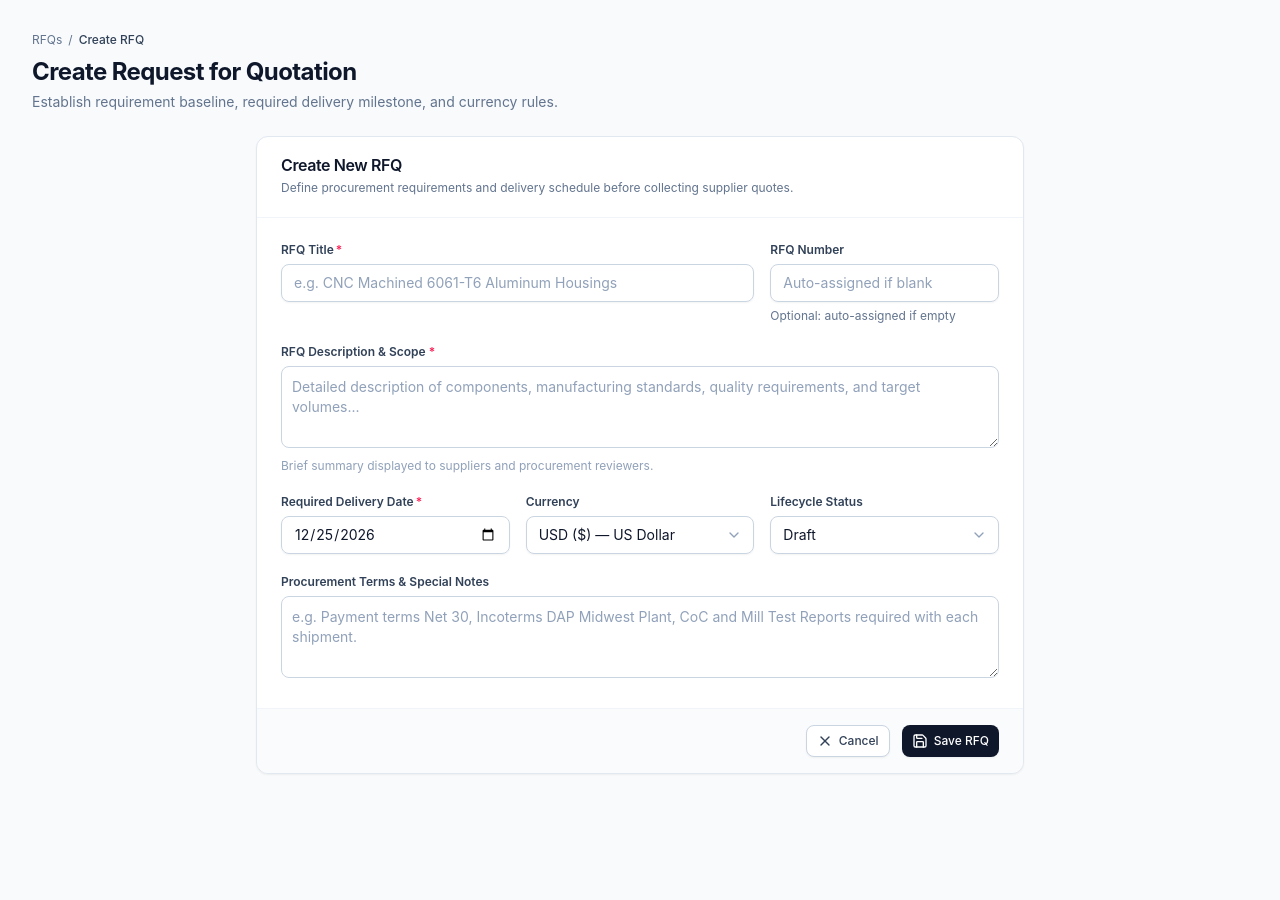
it: CreateRfqPage Integration › displays server error banner when API creation mutation rejects
The width and height of the screenshot is (1280, 900).
Type "Duplicate Cylinders" into the field labelled "RFQ Title*" at (518, 283), box [281,264,754,302]
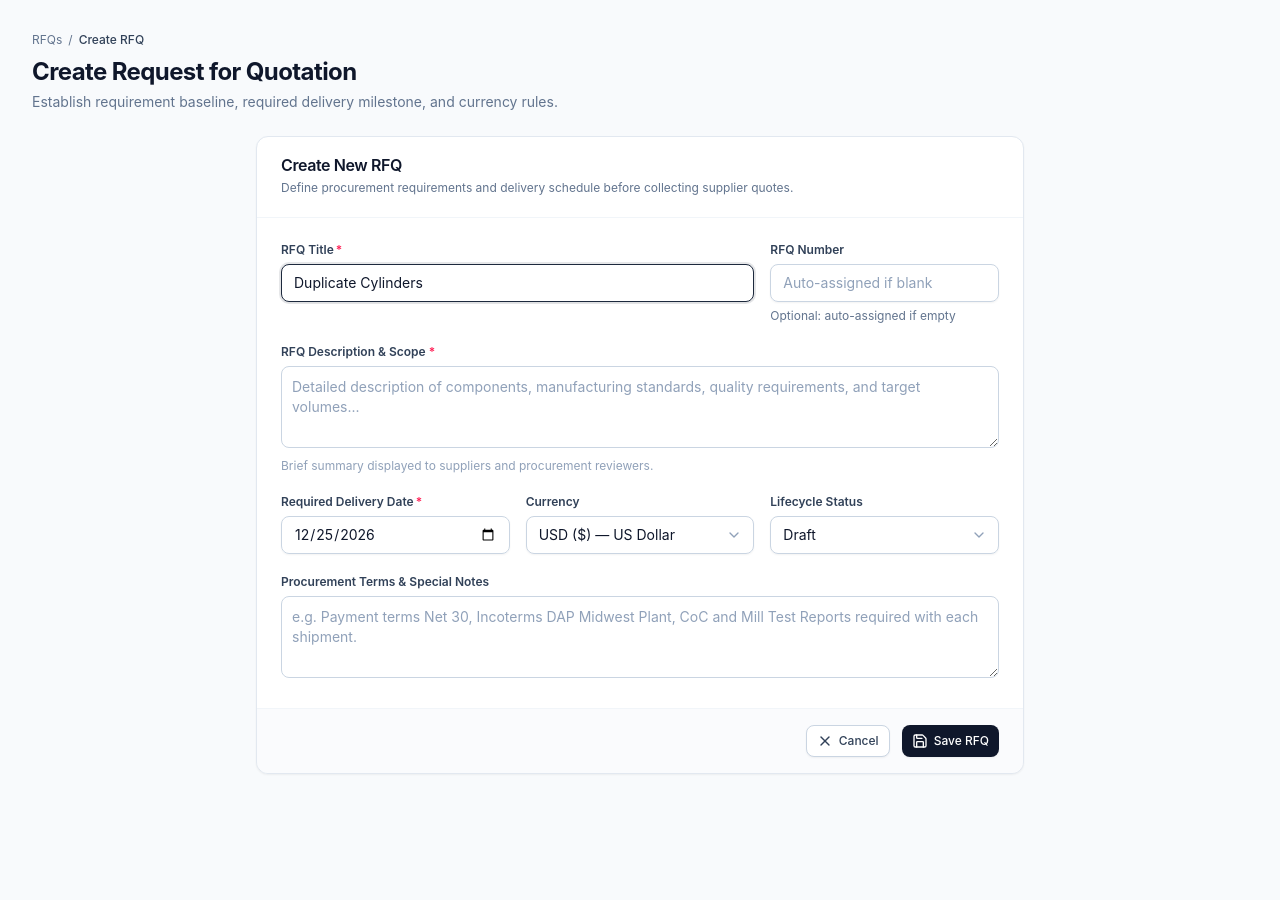
Click the button "Save RFQ" at (950, 741), box [902,725,999,757]
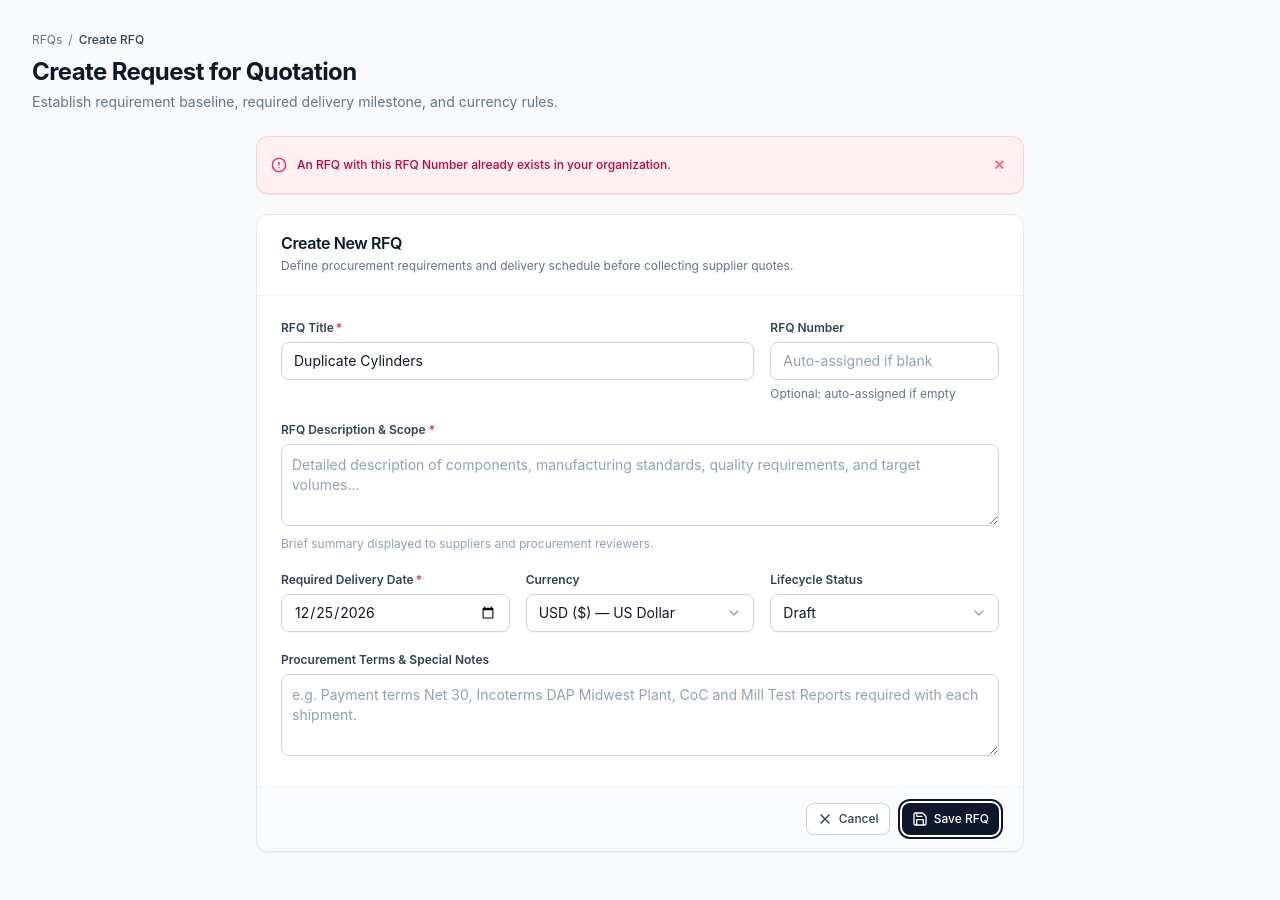
Check: the text "An RFQ with this RFQ Number already exists in your organization." is shown, box [297,157,671,172]
